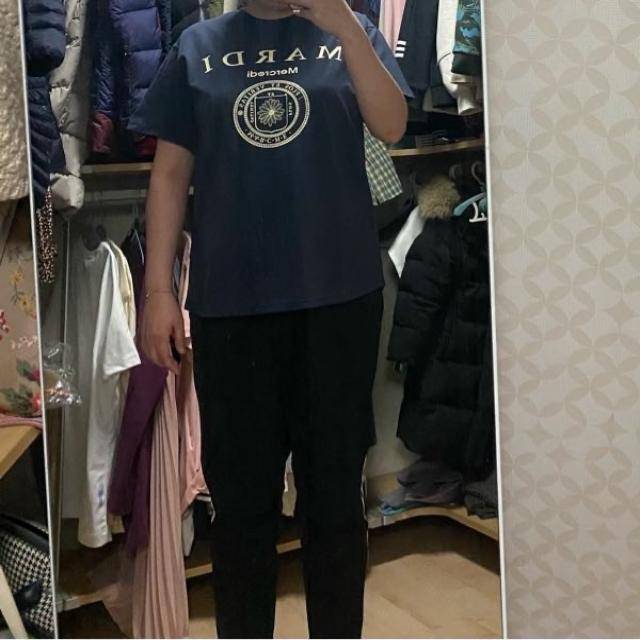shortsleeve: (130, 7, 417, 318)
slacks: (195, 280, 386, 635)
